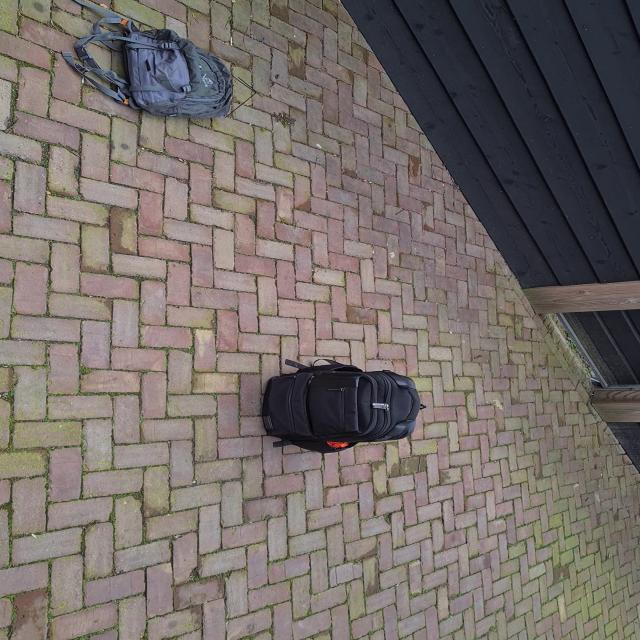backpack: (58, 20, 242, 121), (253, 356, 431, 452)
